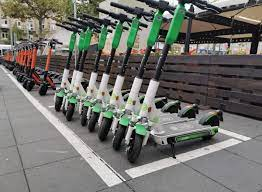kick_wheel: (204, 110, 222, 138), (54, 92, 63, 111), (39, 83, 47, 96)
